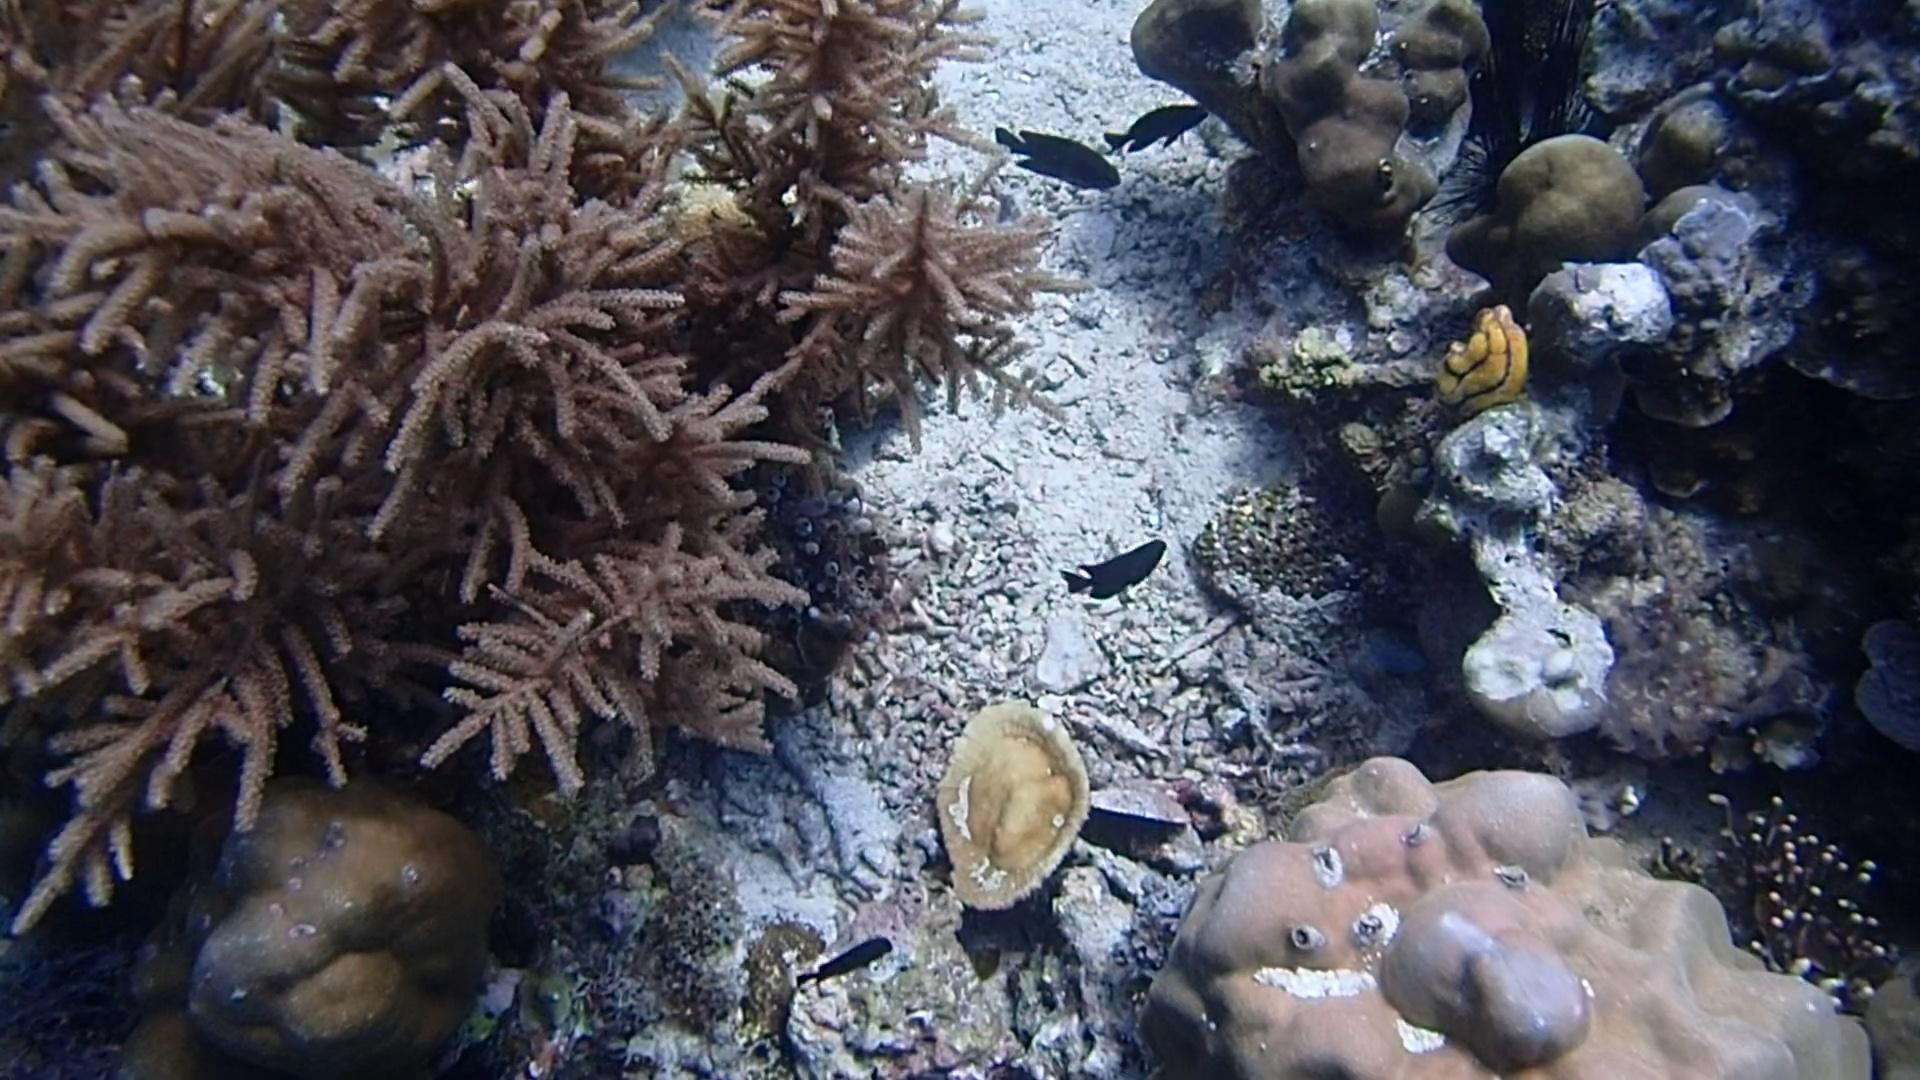Dark Fish: (989, 109, 1129, 207), (1046, 522, 1175, 615), (1097, 91, 1224, 165), (789, 922, 901, 990)
